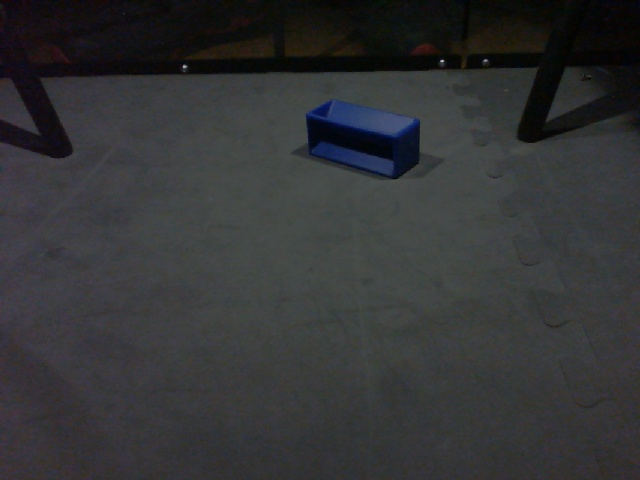BlueSample: (305, 96, 421, 180)
